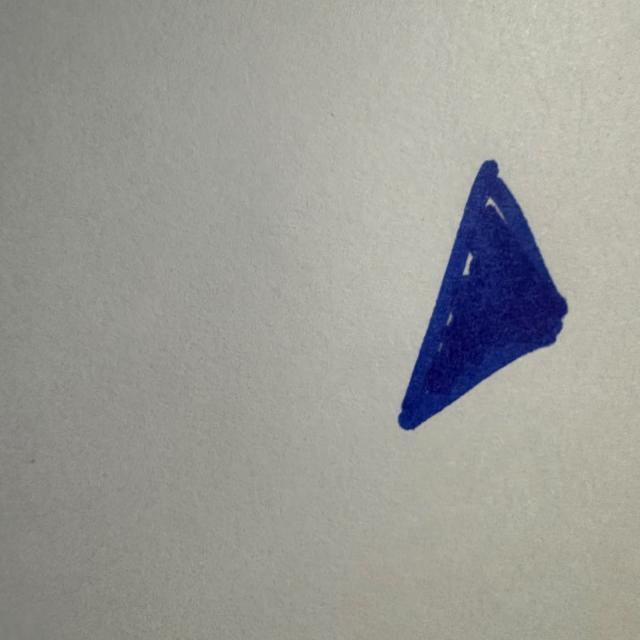Triangle: (398, 161, 568, 430)
